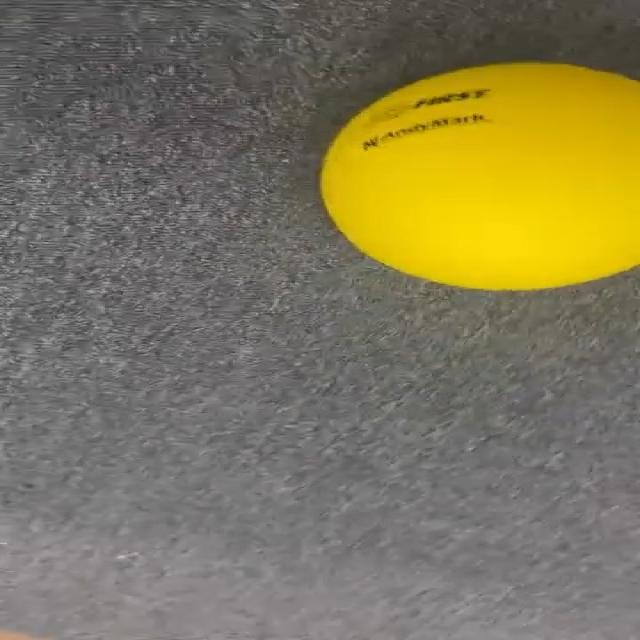Fuels: (316, 62, 640, 291)
